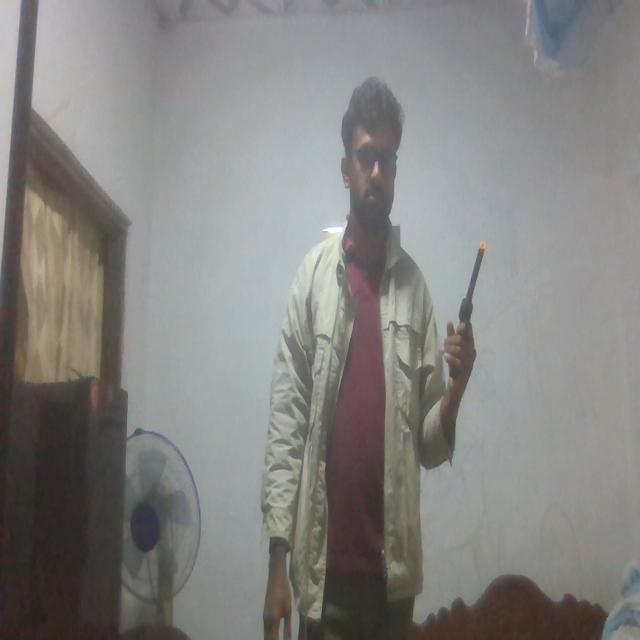Gun_Holder: (445, 235, 489, 384)
Jacket_Wearer: (251, 228, 469, 636)
Person: (255, 76, 491, 640)
